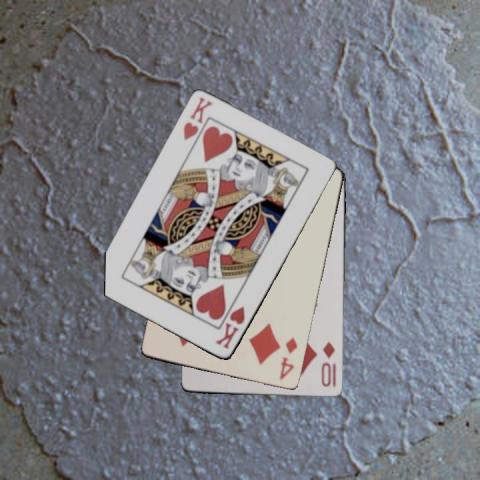10d: (318, 338, 336, 389)
4d: (277, 335, 299, 381)
Kh: (180, 95, 214, 142), (213, 303, 246, 351)
